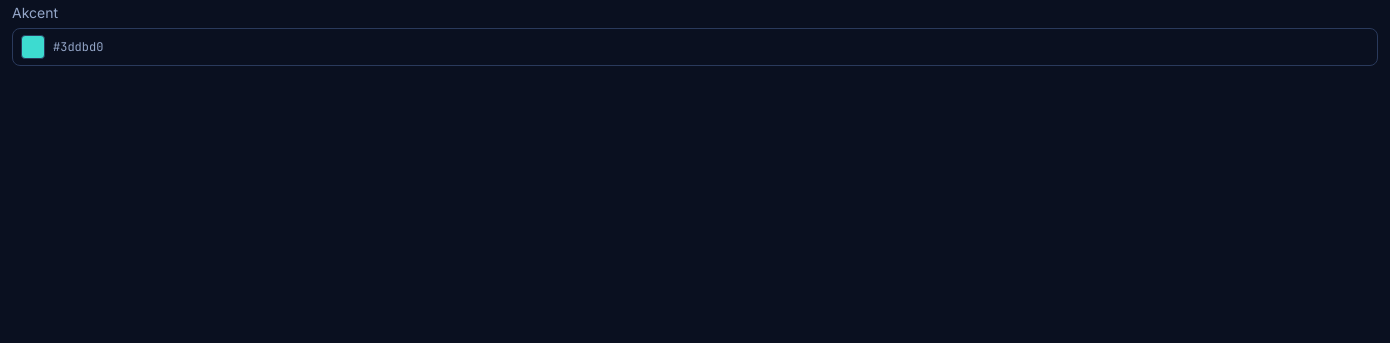
it: ColorPicker › Escape zamyka panel
Click the button with aria-label "Akcent" at [78, 47], box x1=12 y1=28 x2=1378 y2=66
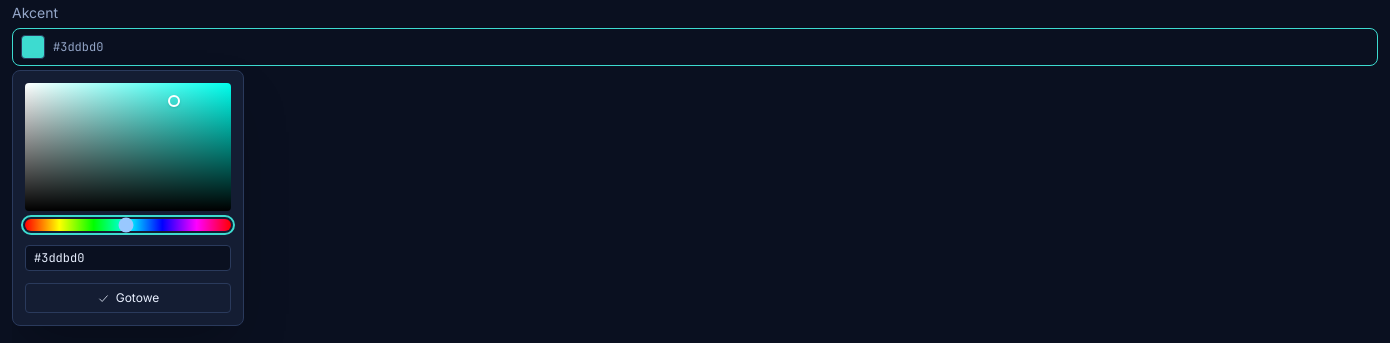
Expected: the slider named "Barwa" is shown, x1=25 y1=219 x2=231 y2=231
Press Escape
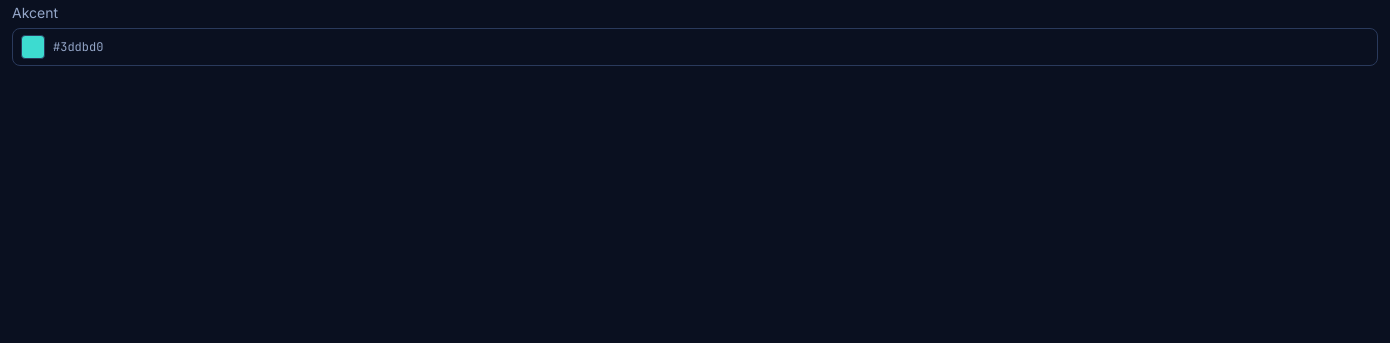
Expected: the slider labelled "Barwa" is gone
